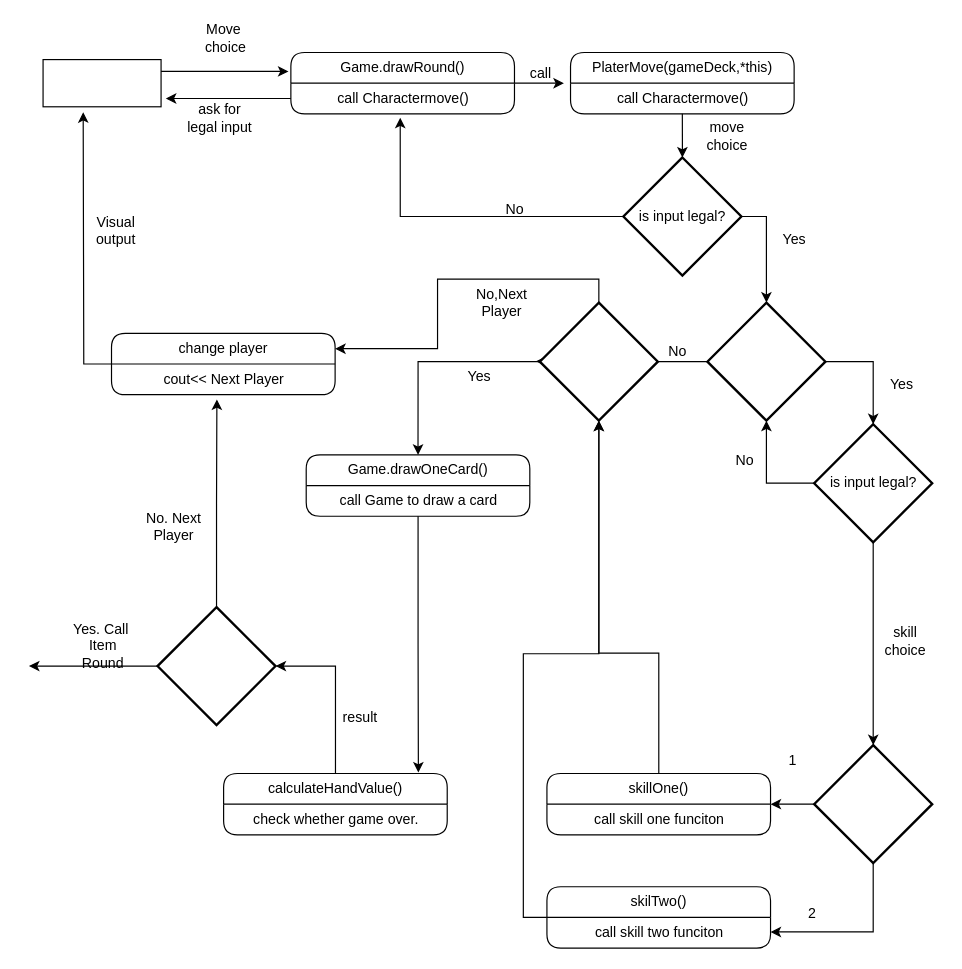
This 962x969 diagram has some shape labels left out. Here are the shapes that lost their labels. From the top down, the centre of each, then its label:
At [101,82]: "Player1".
At [598,361]: "Whether drawOneCard()".
At [766,361]: "Whether use skill".
At [216,665]: "is game over?".
At [872,803]: "skill 1 or 2".
